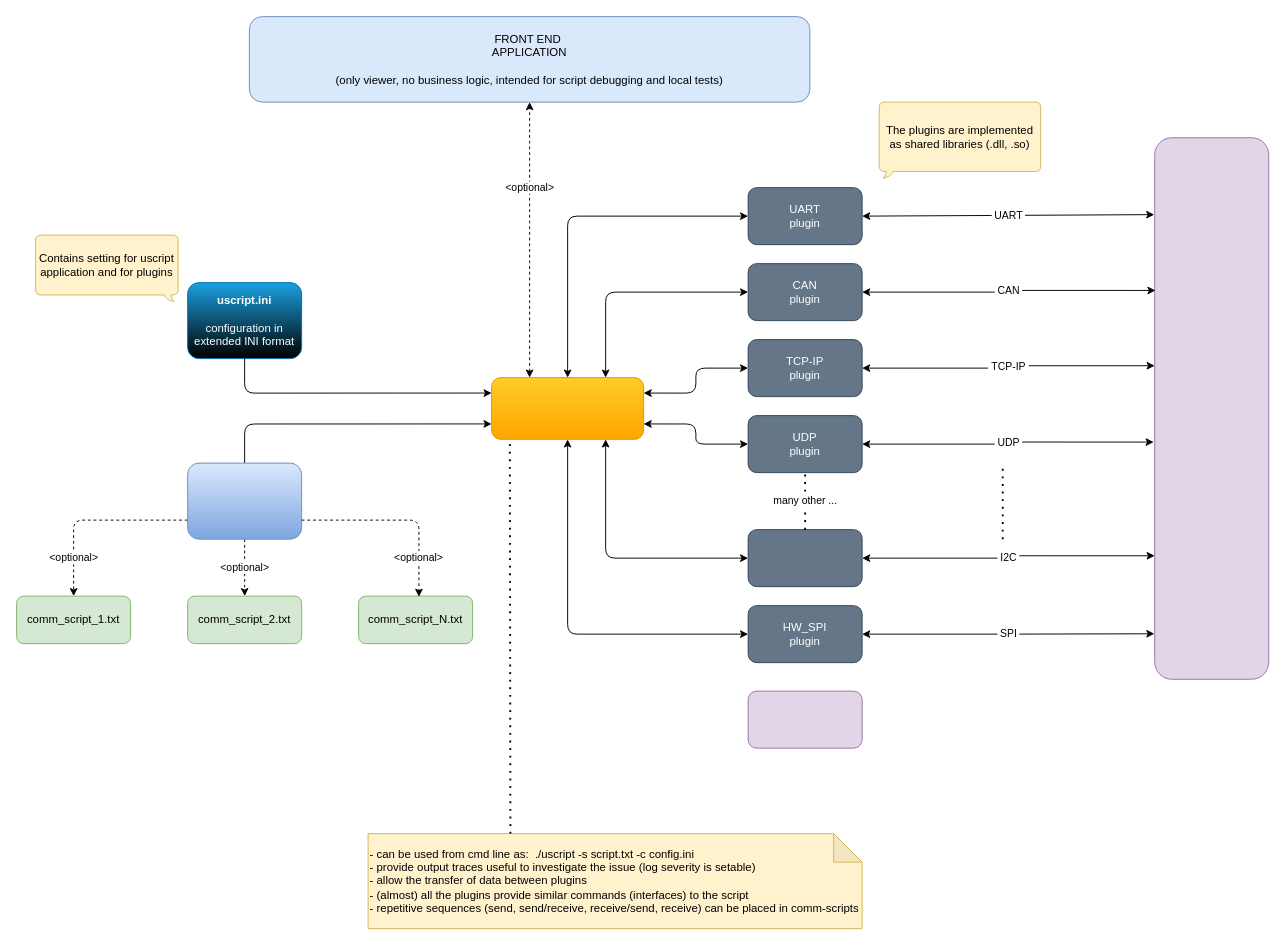
Some shapes in this 1285 by 945 pixel diagram are drawn without their labels. Each missing label, with the centre of its shape:
"HW_I2C plugin" goes at pixel 804 558.
"script.txt script to be executed" goes at pixel 244 500.
"SHELL plugin (can access script elements)" goes at pixel 804 719.
"SUT System Under Test" goes at pixel 1211 408.
"uscript script interpreter (command line application)" goes at pixel 567 408.
